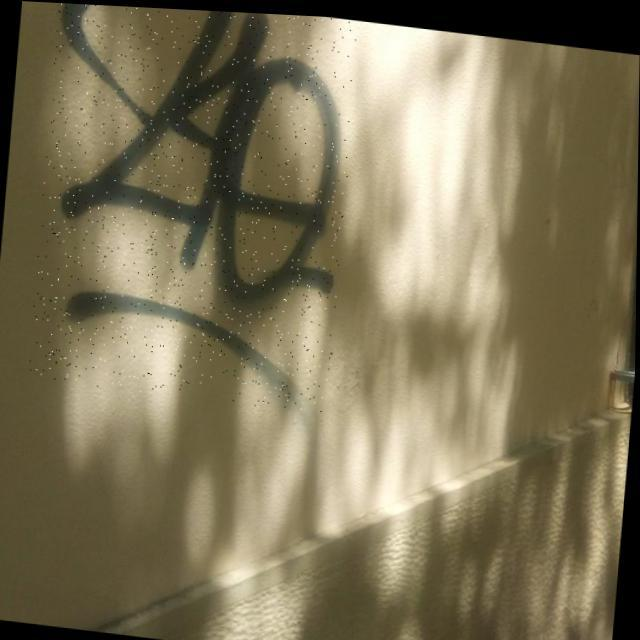-: (27, 1, 360, 412)
